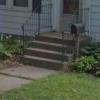stairs: (19, 35, 77, 71)
